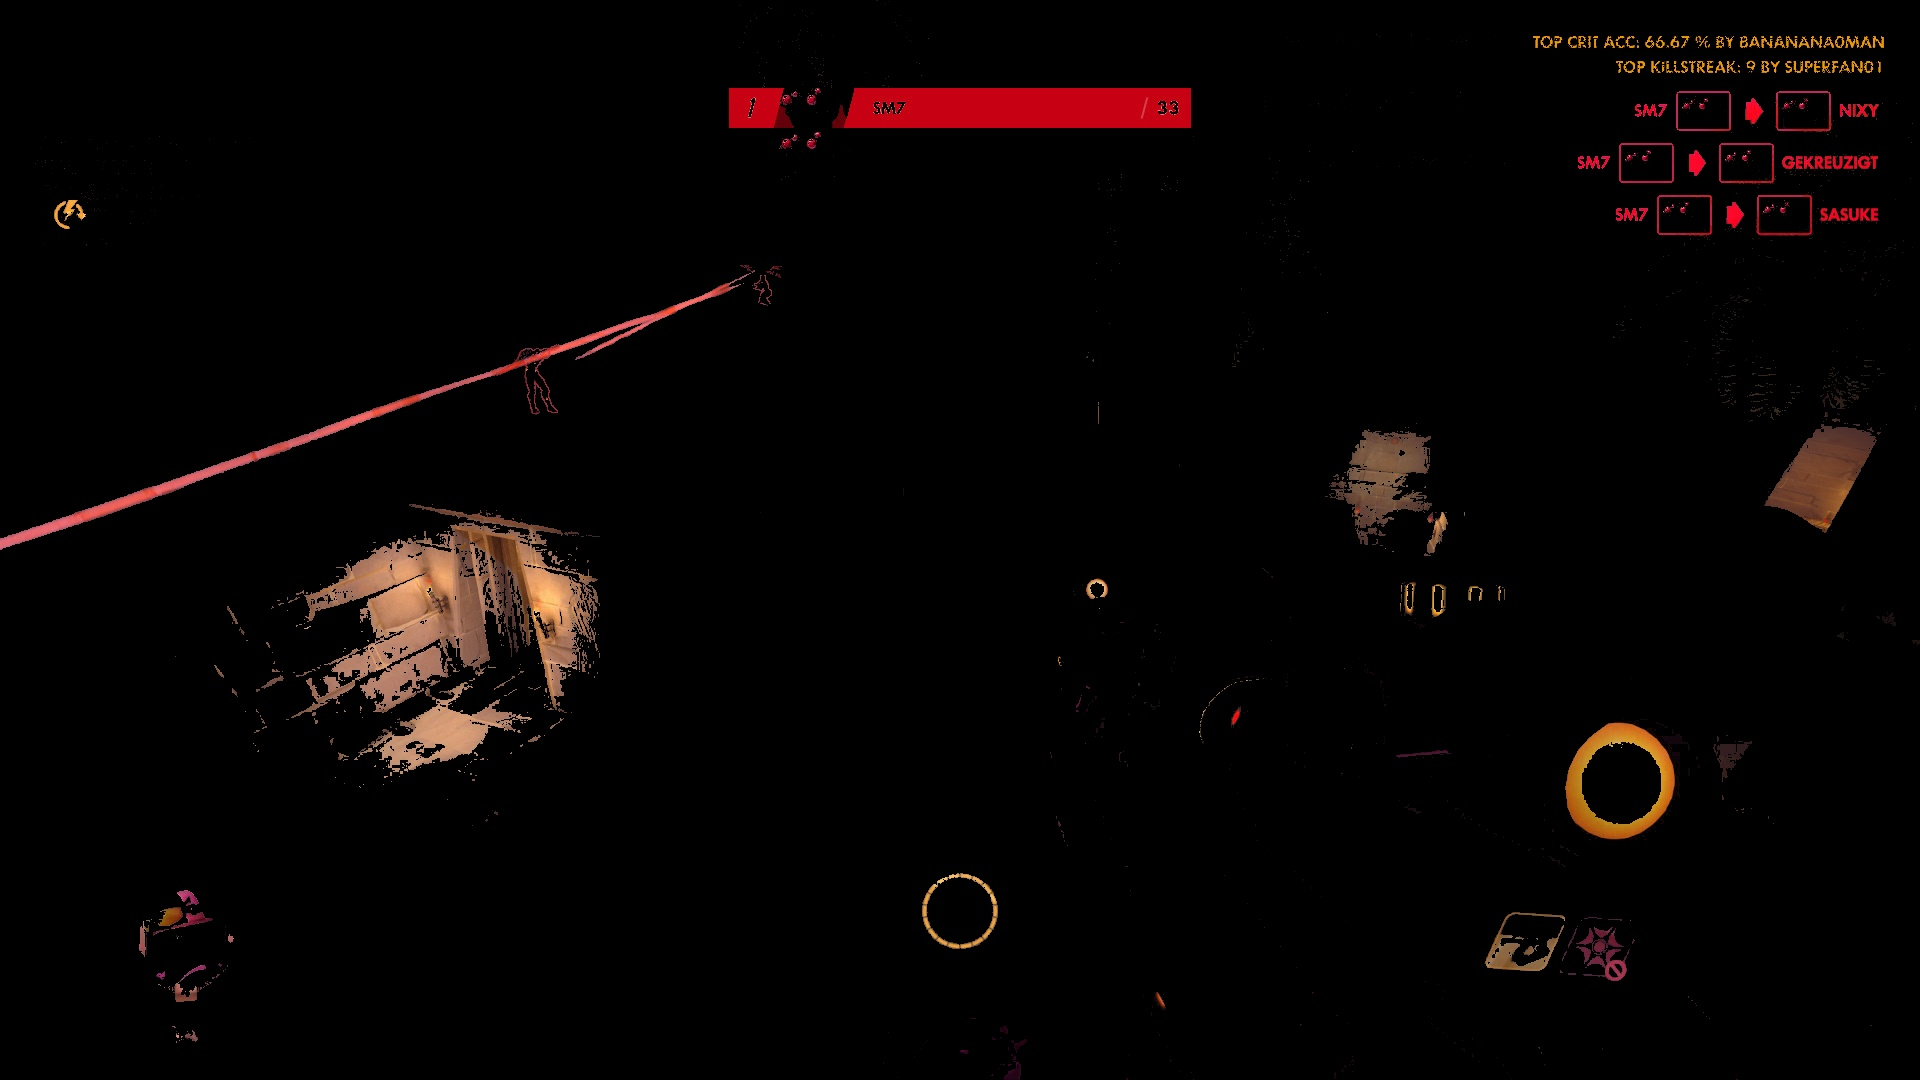widowmaker: (520, 348, 560, 415), (756, 274, 775, 313)
